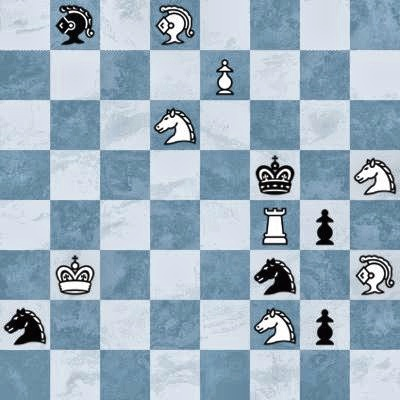black-bishop: (50, 0, 100, 50)
black-king: (250, 150, 300, 200)
black-knight: (250, 250, 300, 300), (0, 300, 50, 350)
black-pawn: (300, 200, 350, 250), (300, 300, 350, 350)
white-bishop: (150, 0, 200, 50), (350, 250, 400, 300)
white-king: (50, 250, 100, 300)
white-knight: (150, 100, 200, 150), (350, 150, 400, 200), (250, 300, 300, 350)
white-pawn: (200, 50, 250, 100)
white-rook: (250, 200, 300, 250)
